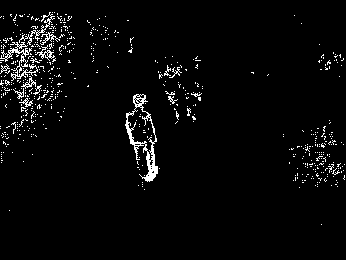person: (123, 91, 161, 186)
